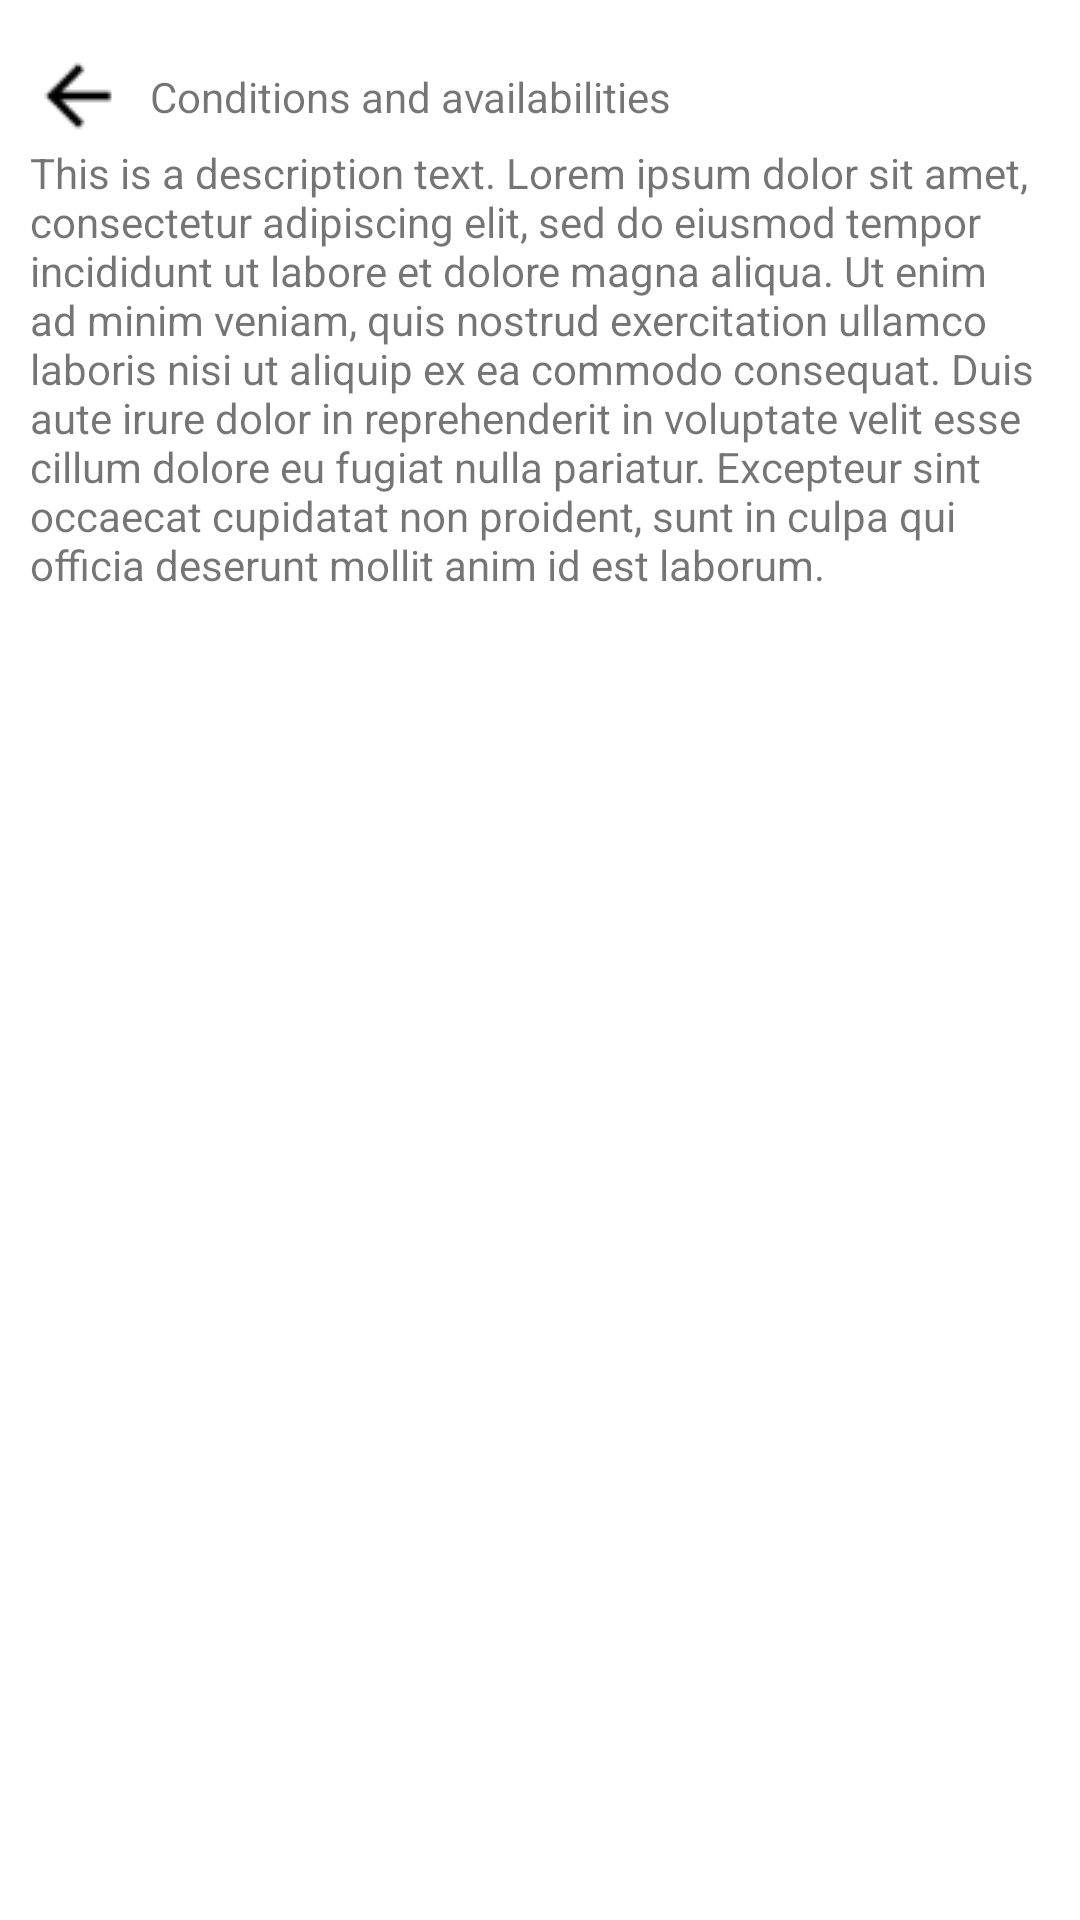

Screen size 1080w x 1920h. Icon name, then its center in pixels as point (x, y):
arrow back: point (78, 96)
